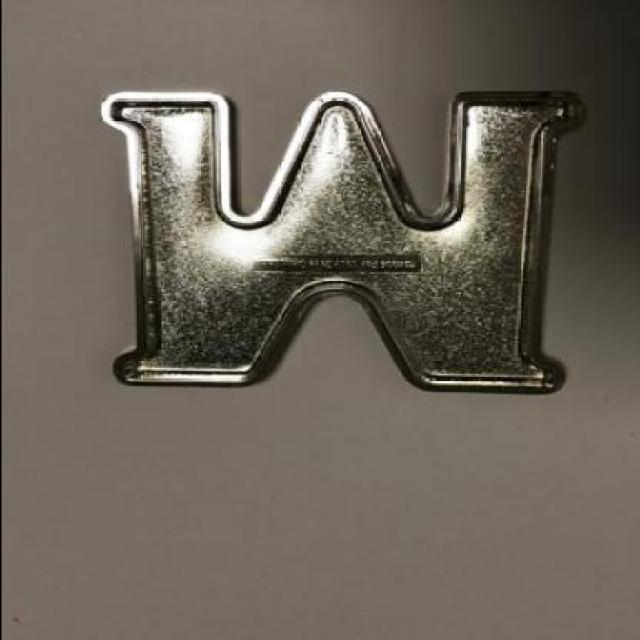METAL: (97, 90, 586, 395)
